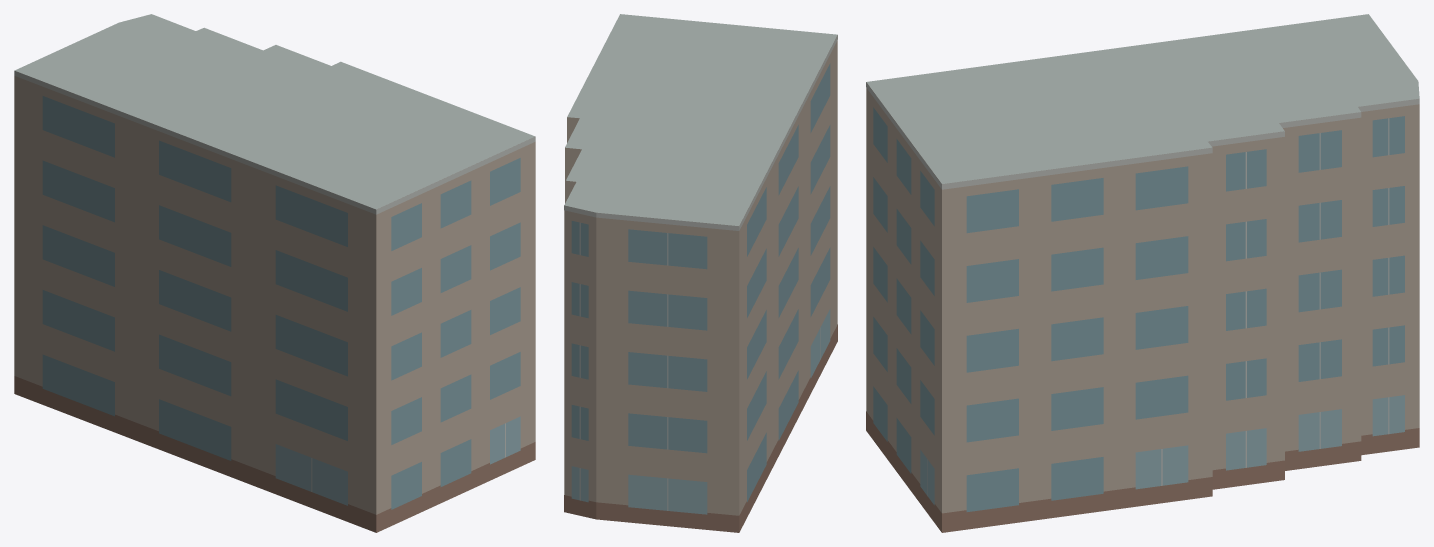
File: survey-upis-32629805.glb
The picture shows the model from 3 angles, left to right: view 1: azimuth 30°, elevation 25°; view 2: azimuth 150°, elevation 25°; view 3: azimuth 270°, elevation 25°; orthographic projection. The views are drawn at different scales.
Parts seen in each view (by area): view 1: survey-upis-32629805.tmp; view 2: survey-upis-32629805.tmp; view 3: survey-upis-32629805.tmp.
Boxes of the visible parts, x1=… form: survey-upis-32629805.tmp: x1=14, y1=14, x2=535, y2=532; survey-upis-32629805.tmp: x1=564, y1=14, x2=837, y2=532; survey-upis-32629805.tmp: x1=866, y1=14, x2=1419, y2=532.
Bounding box in the file's own units: 15.97 × 15.25 × 21.94.
